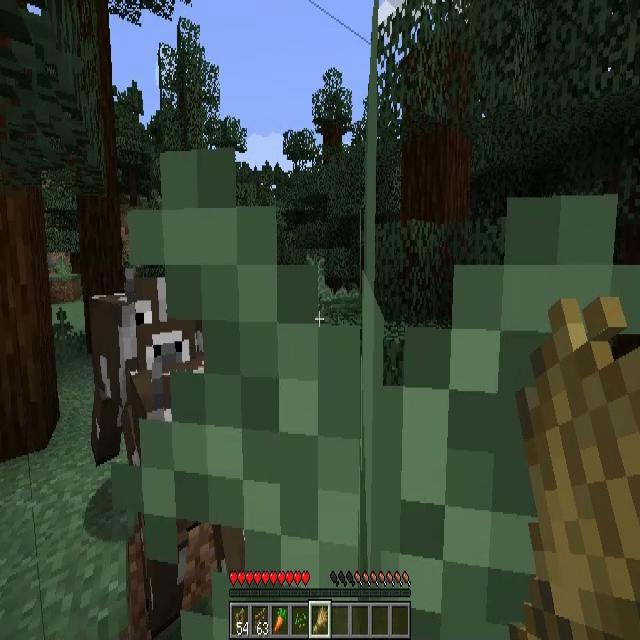cow: (86, 281, 205, 483)
